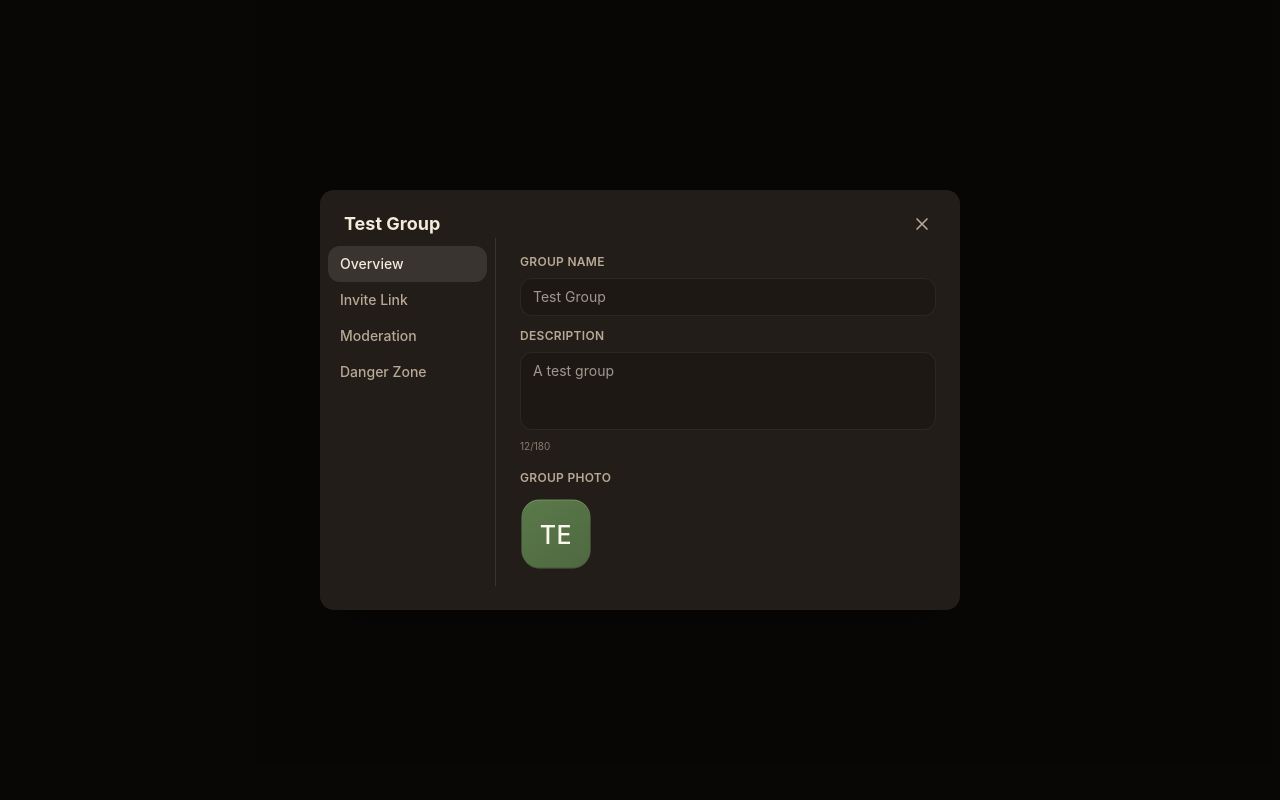
Test: GroupSettingsModal › shows invite code after navigating to Invite Link tab
Click the button with test id "nav-invite" at (408, 300), box left=328, top=282, right=487, bottom=318
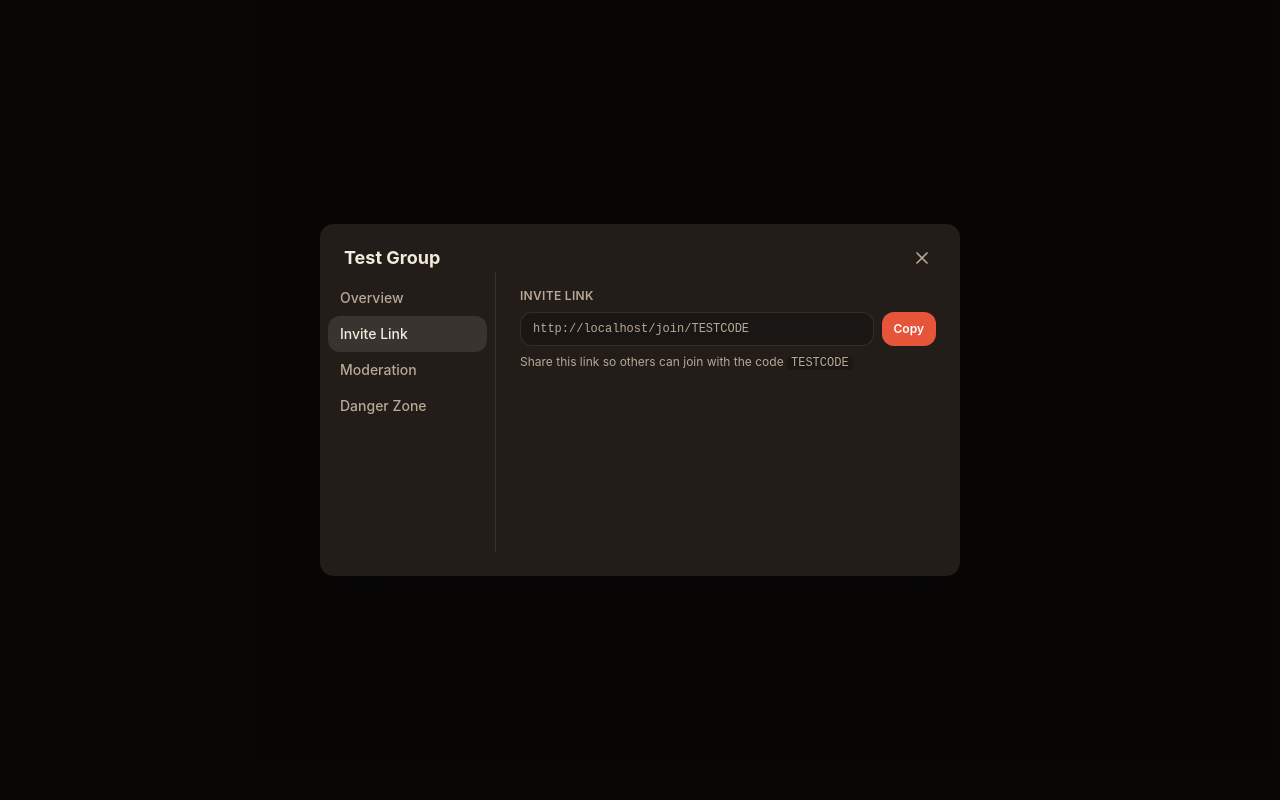
Expected: the text "TESTCODE" is shown, left=787, top=356, right=853, bottom=370
